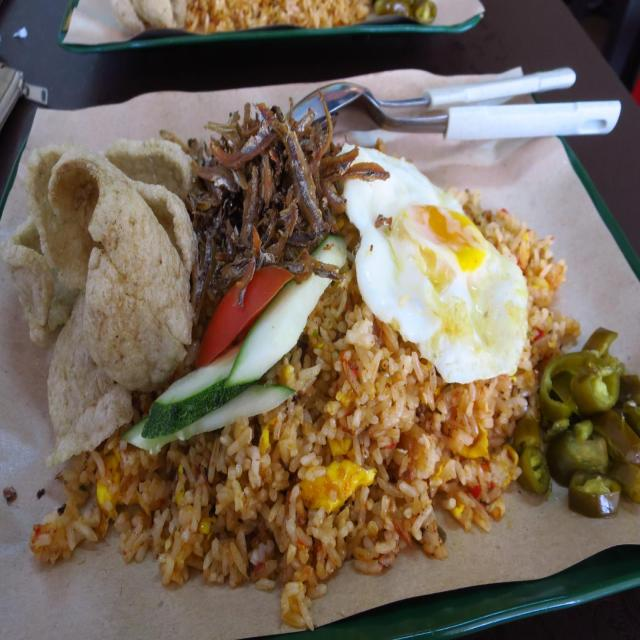Nasi Goreng: (91, 210, 586, 590)
